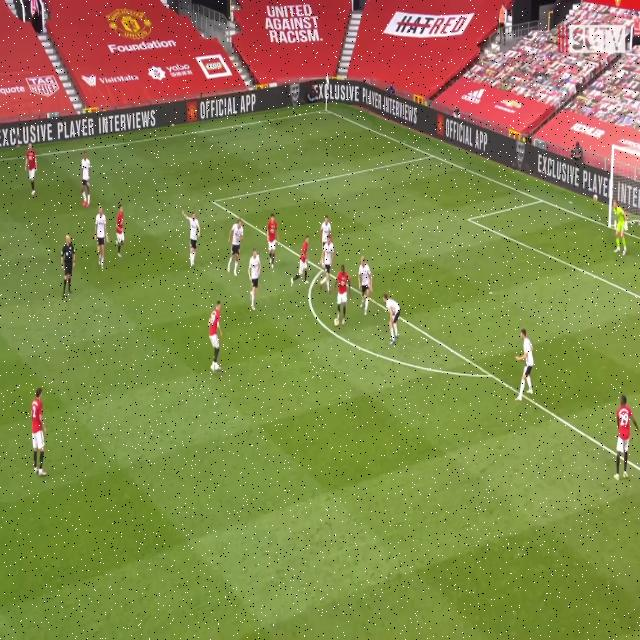Ball: (591, 190, 601, 208)
GoalKeeper: (612, 196, 632, 256)
TEAM 1: (612, 390, 640, 480), (29, 386, 50, 481), (206, 299, 226, 376), (290, 224, 310, 292), (260, 212, 280, 272), (334, 260, 350, 326), (115, 196, 126, 258), (27, 143, 38, 195)
TEAM 2: (514, 324, 542, 405), (355, 254, 377, 323), (318, 210, 335, 296), (380, 291, 405, 343), (181, 210, 202, 270), (90, 207, 109, 270), (246, 243, 262, 312), (79, 150, 94, 214), (320, 230, 332, 307), (230, 218, 244, 278)
